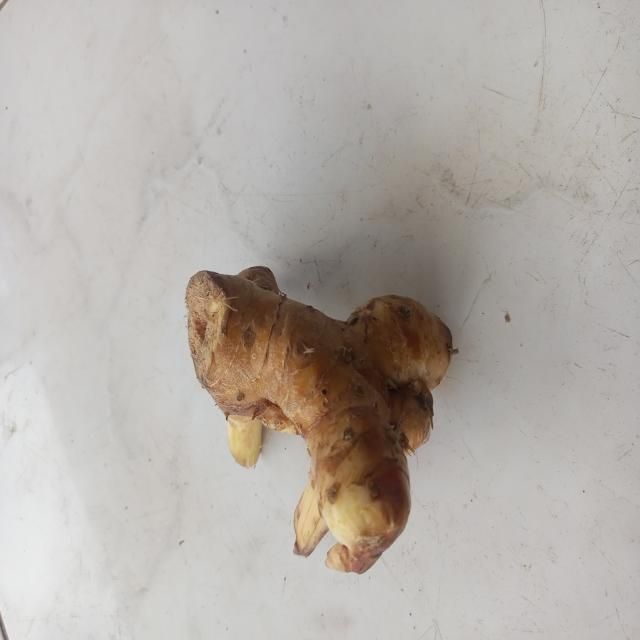ginger: (196, 255, 435, 554)
